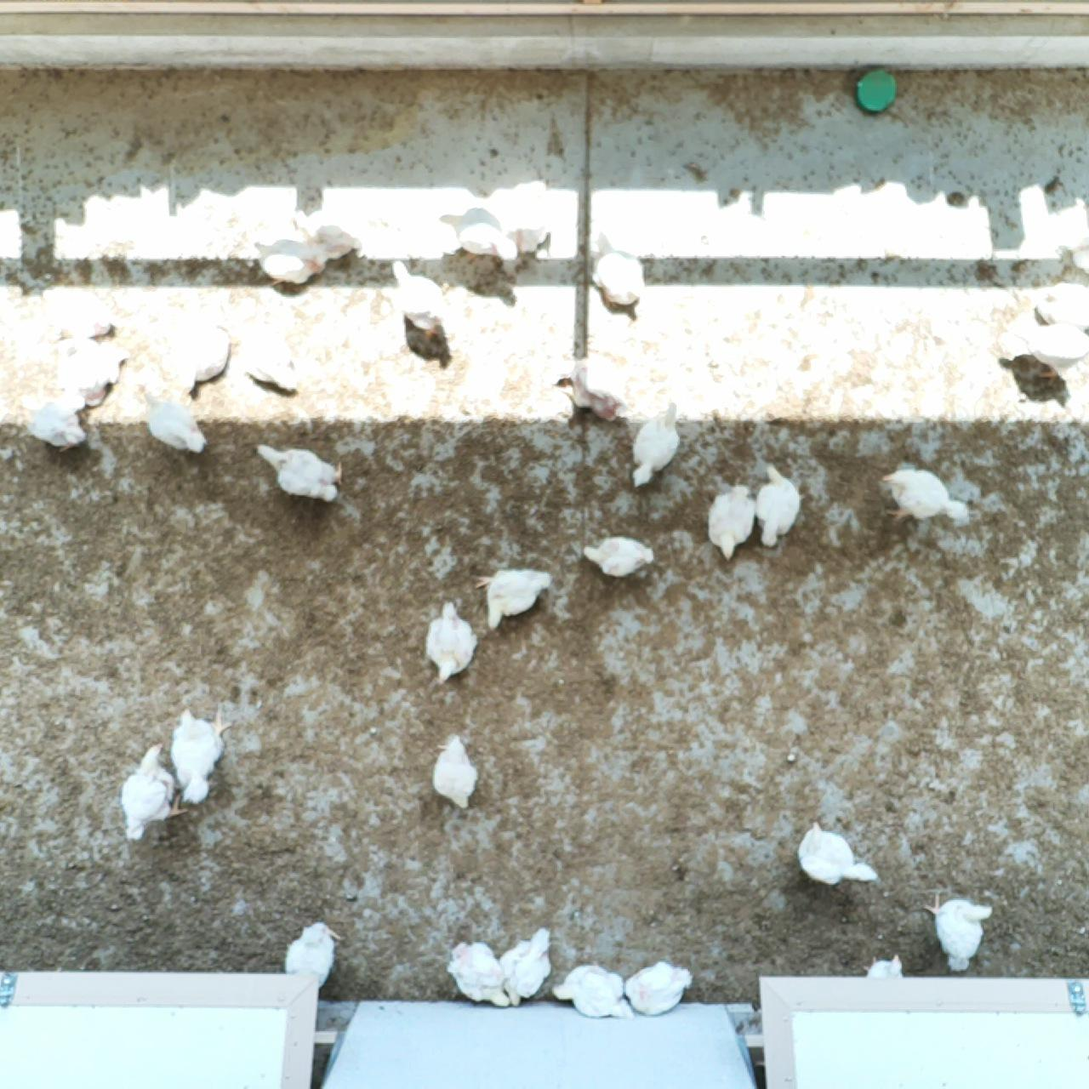chicken: (792, 816, 880, 894), (169, 703, 235, 807), (920, 887, 995, 978), (879, 463, 973, 531), (252, 439, 348, 505), (469, 563, 556, 634), (163, 302, 231, 392), (53, 333, 133, 408), (625, 395, 687, 489), (421, 596, 483, 689), (556, 349, 629, 427), (548, 959, 635, 1024), (1002, 315, 1089, 379), (385, 259, 455, 338), (436, 208, 519, 274), (137, 385, 210, 457), (40, 282, 124, 344), (234, 318, 301, 395), (246, 228, 326, 292), (588, 229, 651, 310), (444, 936, 513, 1008), (499, 926, 557, 1009), (754, 461, 807, 551), (18, 385, 88, 453), (621, 955, 695, 1019), (427, 730, 482, 814), (704, 481, 758, 564), (284, 920, 343, 992), (291, 206, 368, 261), (500, 180, 557, 250), (581, 530, 657, 579), (1028, 279, 1089, 332), (858, 949, 906, 981)
